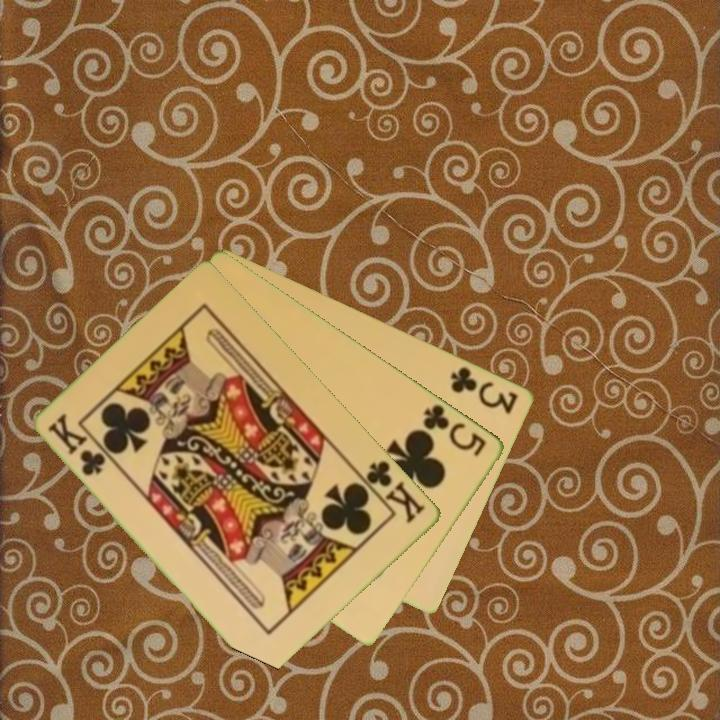3c: (447, 362, 522, 417)
5c: (420, 400, 490, 459)
Kc: (355, 456, 429, 527), (44, 411, 109, 479)
